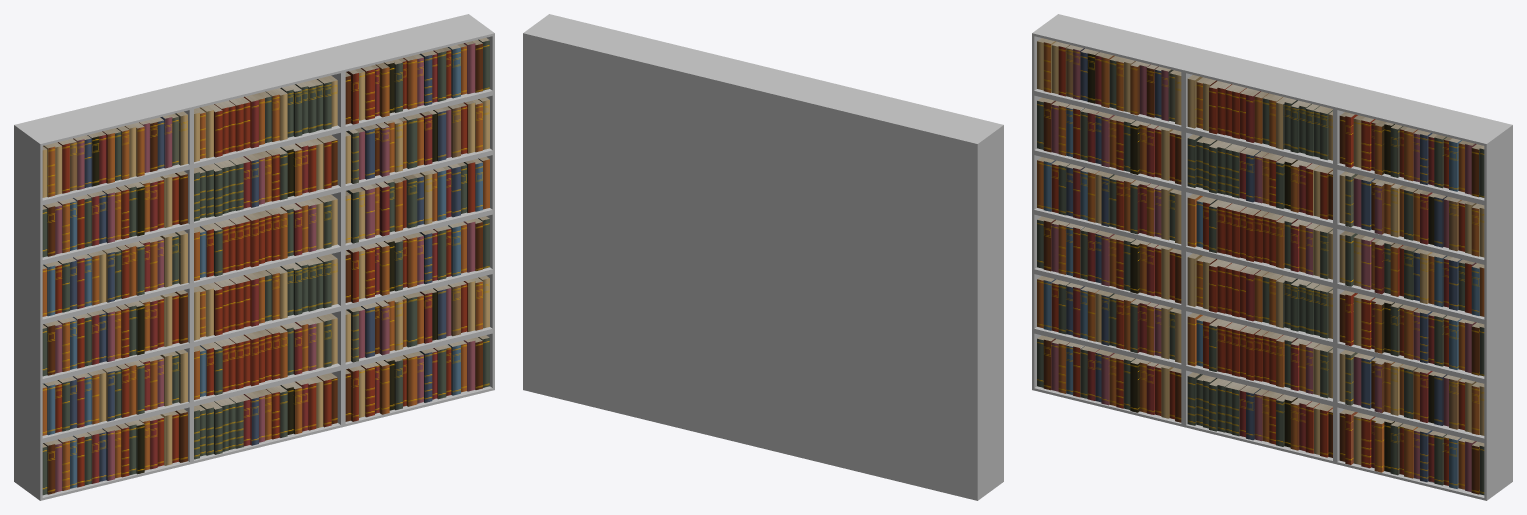
File: bookcase_01.fbx
The picture shows the model from 3 angles, left to right: view 1: azimuth 30°, elevation 25°; view 2: azimuth 150°, elevation 25°; view 3: azimuth 330°, elevation 25°; orthographic projection.
Visible parts, largest first — view 1: Bookcast_GEO, bool_p_1_2, bool_p_1_6, bool_p_1_12, bool_p_1_9, bool_p_1_15, bool_p_1_3, bool_p_3, bool_p_11, bool_p_7, bool_p_1, bool_p_5 (+25 smaller); view 2: Bookcast_GEO; view 3: Bookcast_GEO, bool_p_11, bool_p_3, bool_p_1, bool_p_7, bool_p_5, bool_p_9, bool_p_1_9, bool_p_1_15, bool_p_1_3, bool_p_1_2, bool_p_1_6 (+25 smaller).
Part boxes in pixels (left/top/right/bottom): Bookcast_GEO: left=14, top=14, right=494, bottom=500; bool_p_1_2: left=42, top=410, right=187, bottom=495; bool_p_1_6: left=42, top=291, right=187, bottom=376; bool_p_1_12: left=42, top=173, right=187, bottom=257; bool_p_1_9: left=42, top=232, right=187, bottom=316; bool_p_1_15: left=42, top=113, right=187, bottom=197; bool_p_1_3: left=42, top=351, right=187, bottom=435; bool_p_3: left=345, top=277, right=489, bottom=362; bool_p_11: left=345, top=39, right=489, bottom=124; bool_p_7: left=345, top=158, right=489, bottom=243; bool_p_1: left=345, top=337, right=489, bottom=421; bool_p_5: left=345, top=218, right=489, bottom=302; Bookcast_GEO: left=523, top=14, right=1003, bottom=500; Bookcast_GEO: left=1032, top=14, right=1512, bottom=500; bool_p_11: left=1339, top=114, right=1484, bottom=197; bool_p_3: left=1339, top=352, right=1484, bottom=435; bool_p_1: left=1339, top=412, right=1484, bottom=495; bool_p_7: left=1339, top=233, right=1484, bottom=316; bool_p_5: left=1339, top=293, right=1484, bottom=376; bool_p_9: left=1339, top=174, right=1484, bottom=257; bool_p_1_9: left=1037, top=160, right=1181, bottom=243; bool_p_1_15: left=1037, top=41, right=1181, bottom=125; bool_p_1_3: left=1037, top=279, right=1181, bottom=362; bool_p_1_2: left=1037, top=338, right=1181, bottom=422; bool_p_1_6: left=1037, top=219, right=1181, bottom=303.
Bounding box in the file's own units: 40 × 30 × 4.
